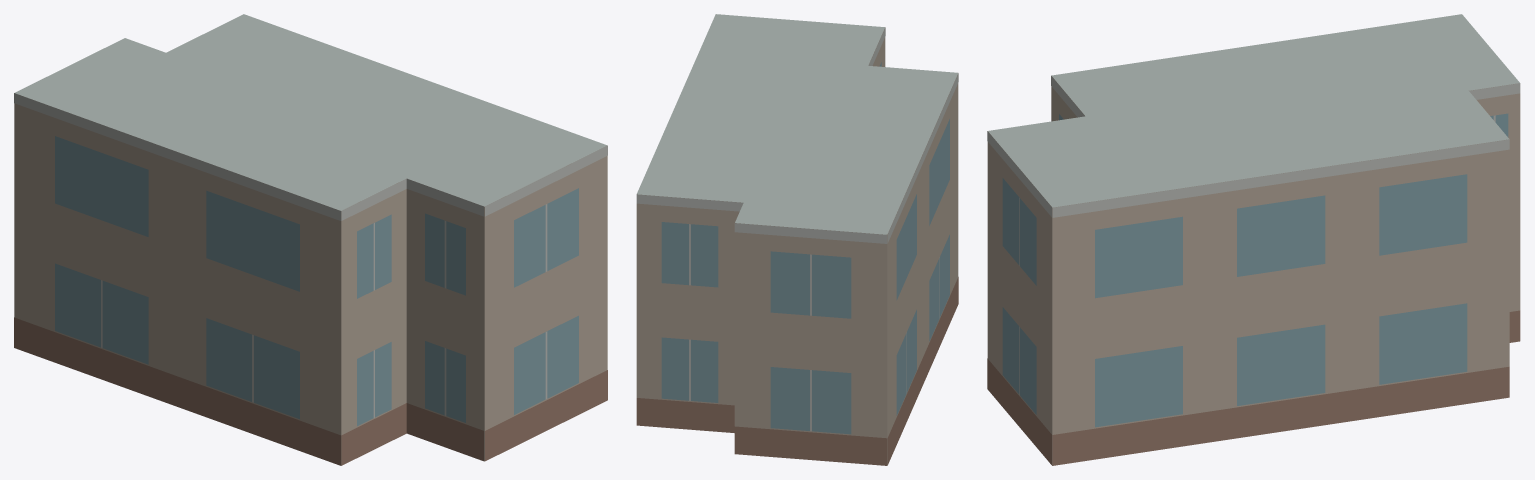
File: survey-upis-32824603.glb
The picture shows the model from 3 angles, left to right: view 1: azimuth 30°, elevation 25°; view 2: azimuth 150°, elevation 25°; view 3: azimuth 270°, elevation 25°; orthographic projection. The views are drawn at different scales.
Parts seen in each view (by area): view 1: survey-upis-32824603.tmp; view 2: survey-upis-32824603.tmp; view 3: survey-upis-32824603.tmp.
Part boxes in pixels (left/top/right/bottom): survey-upis-32824603.tmp: left=14, top=14, right=607, bottom=465; survey-upis-32824603.tmp: left=636, top=14, right=958, bottom=465; survey-upis-32824603.tmp: left=987, top=14, right=1520, bottom=465.
Size of the model in its own units: 9.82 by 6.1 by 11.41.
